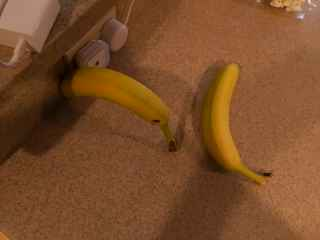banana: (57, 58, 183, 154), (200, 61, 275, 188)
